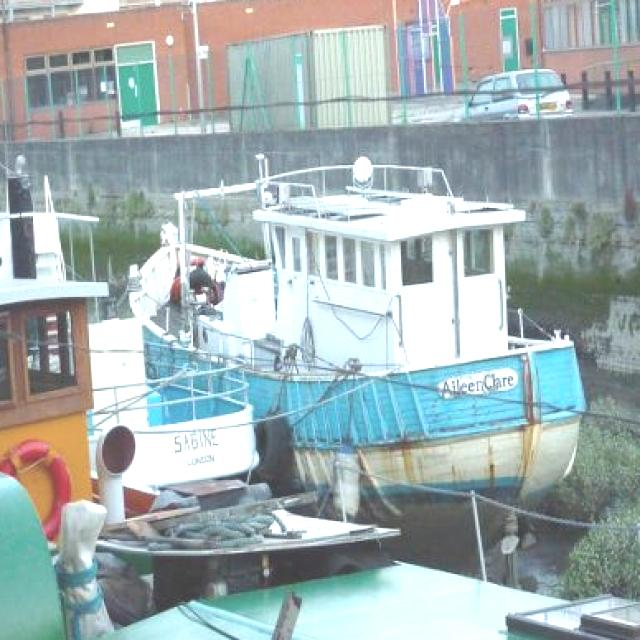ship: (0, 168, 640, 640), (123, 148, 585, 545)
